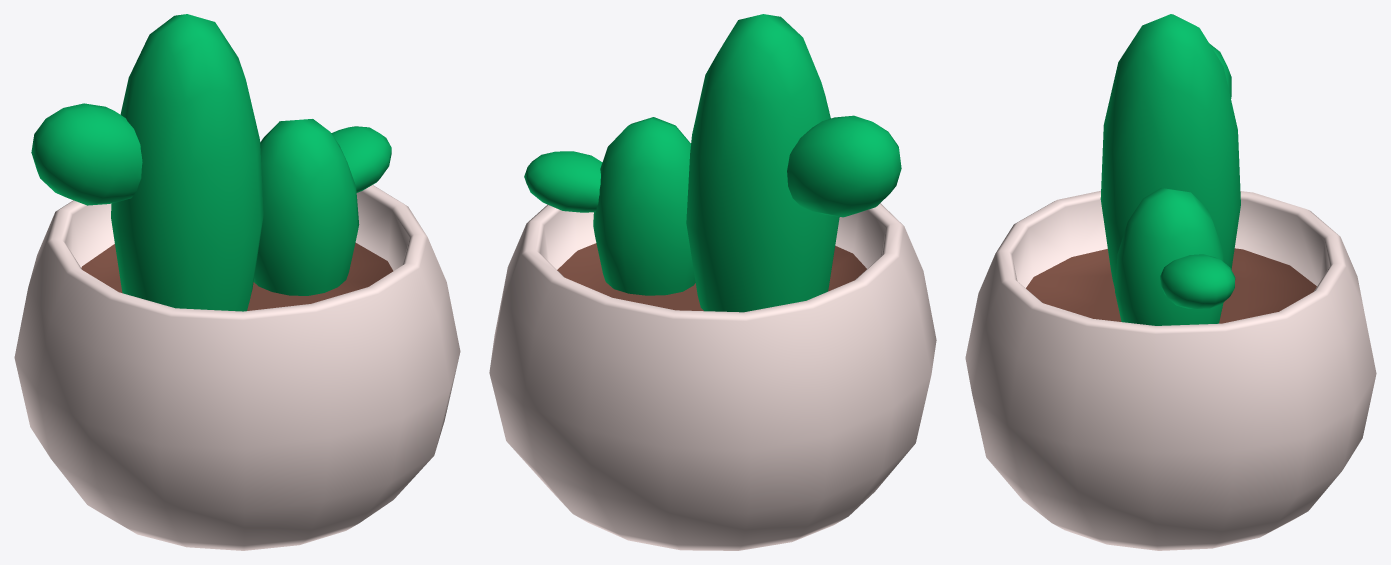
File: City_9_Cactus_2.glb
The picture shows the model from 3 angles, left to right: view 1: azimuth 30°, elevation 25°; view 2: azimuth 150°, elevation 25°; view 3: azimuth 270°, elevation 25°; orthographic projection. The views are drawn at different scales.
Visible parts, largest first — view 1: City_9_Cactus_2; view 2: City_9_Cactus_2; view 3: City_9_Cactus_2.
Boxes of the visible parts, x1=… form: City_9_Cactus_2: x1=14, y1=14, x2=460, y2=550; City_9_Cactus_2: x1=489, y1=14, x2=936, y2=550; City_9_Cactus_2: x1=965, y1=14, x2=1376, y2=550.
Size of the model in its own units: 0.2909 by 0.3543 by 0.2896.
1 material, 1 textured.
